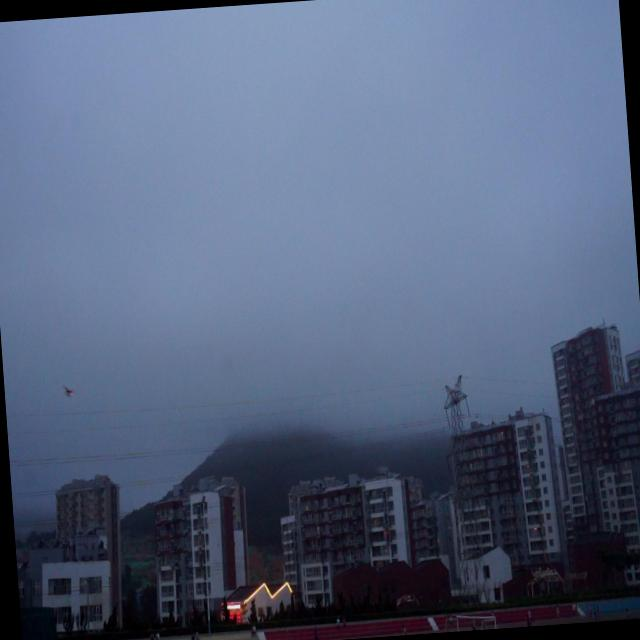drone: (62, 380, 78, 400)
